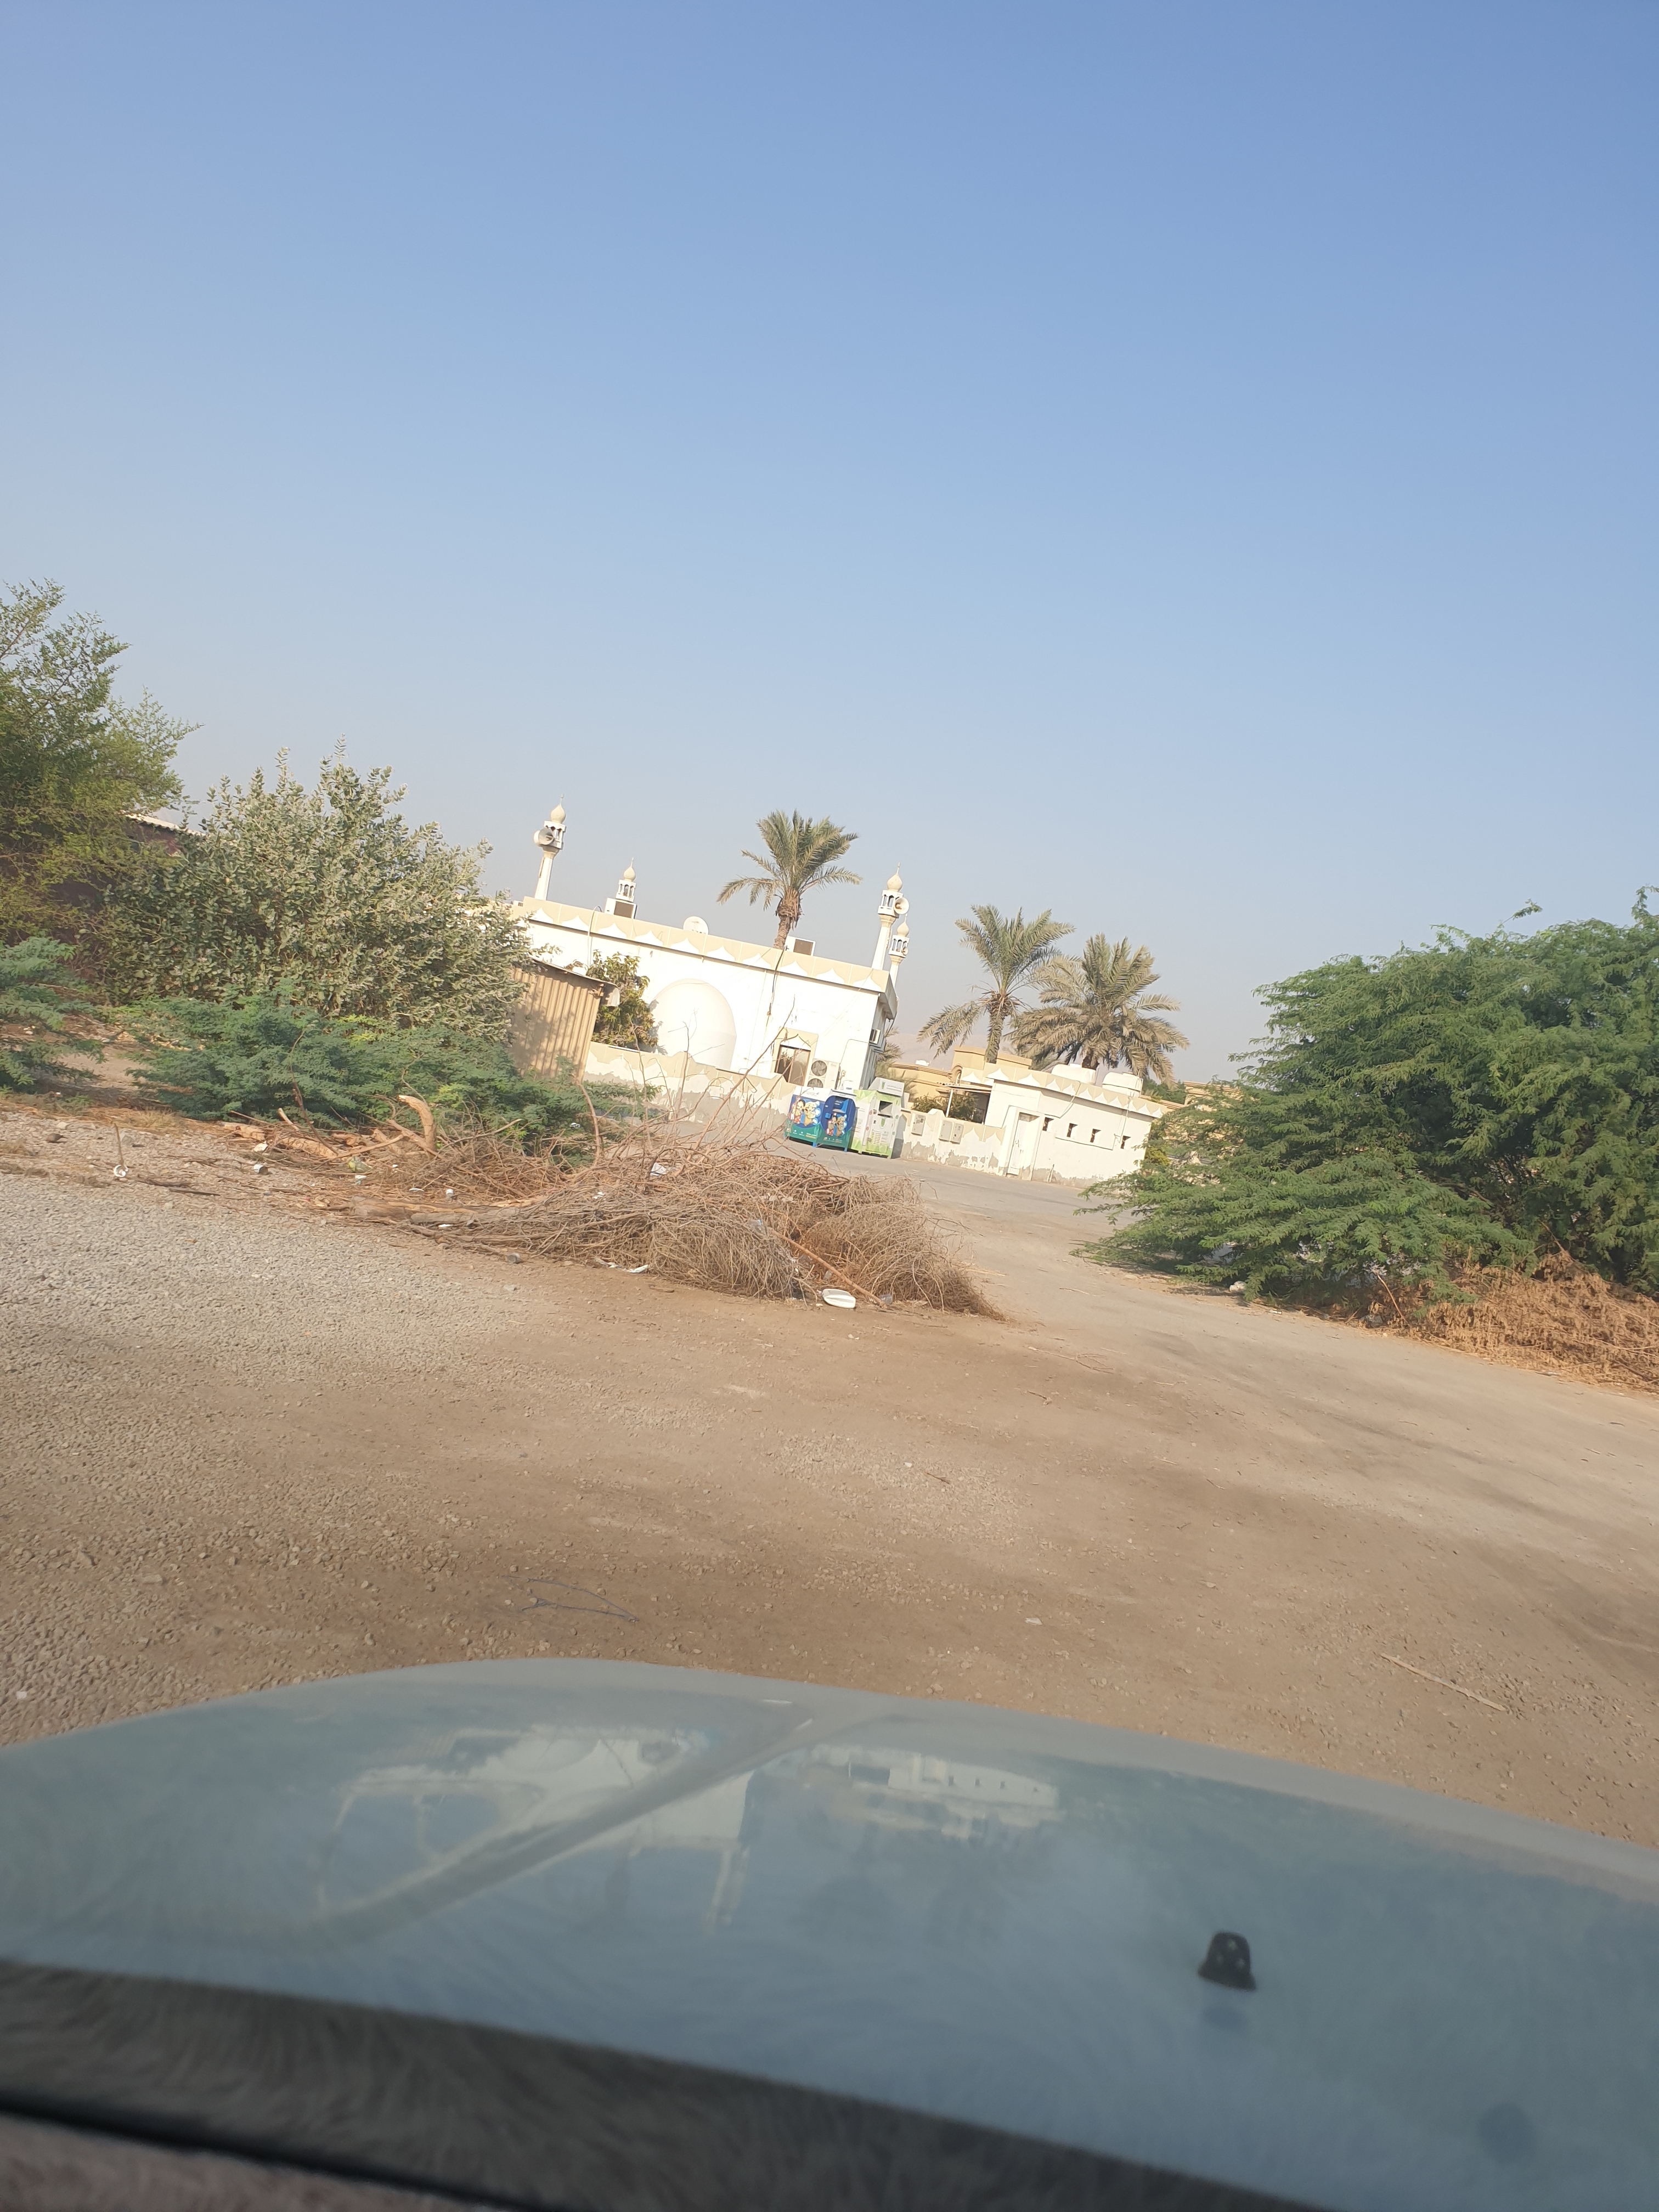fallen_trees: (321, 1111, 1061, 1360), (474, 1186, 915, 1331), (232, 1151, 577, 1268), (821, 1179, 1039, 1305), (1500, 1289, 1657, 1435)
